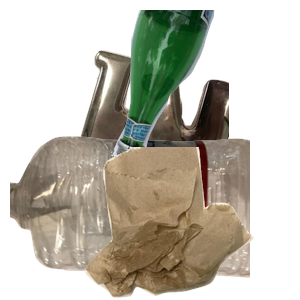glass: (109, 10, 300, 167)
metal: (60, 47, 300, 227)
plastic: (10, 134, 250, 300)
trash: (83, 147, 300, 300)
